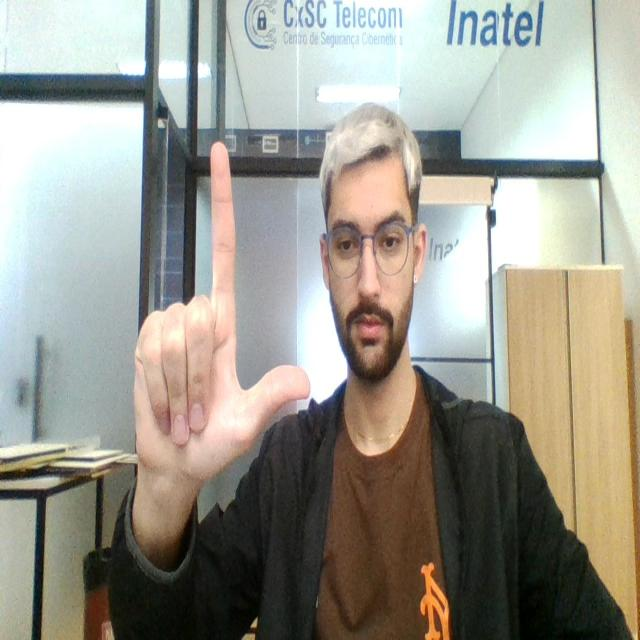L: (129, 137, 315, 492)
